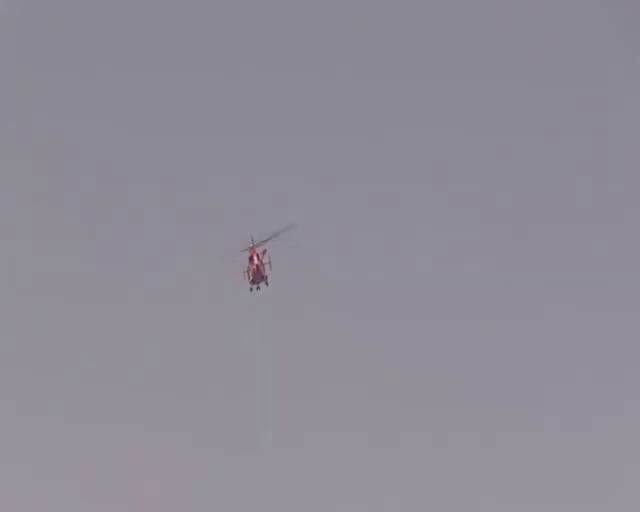HELICOPTER: (239, 221, 299, 292)
